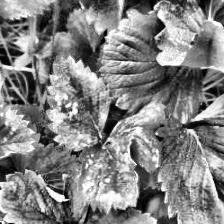Powdery Mildew Leaf: (45, 55, 112, 152), (75, 133, 139, 216), (106, 100, 166, 173), (0, 168, 78, 224), (0, 102, 38, 165)
